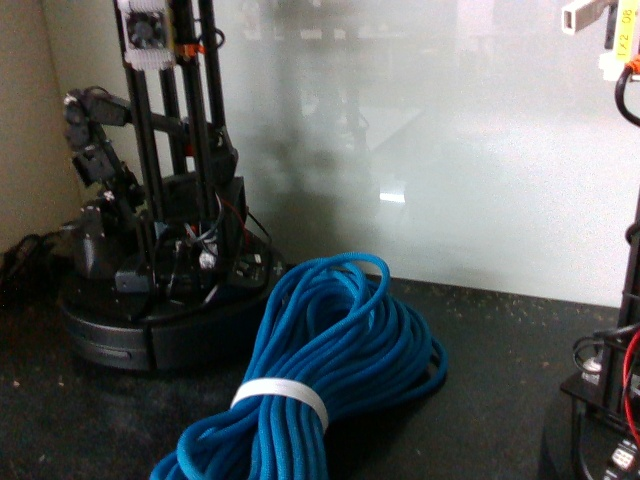rope: (150, 254, 447, 480)
